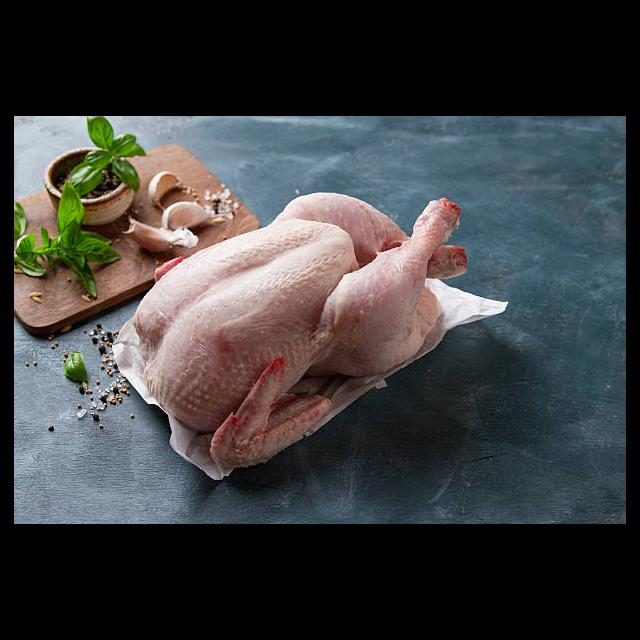chicken: (130, 185, 469, 471)
